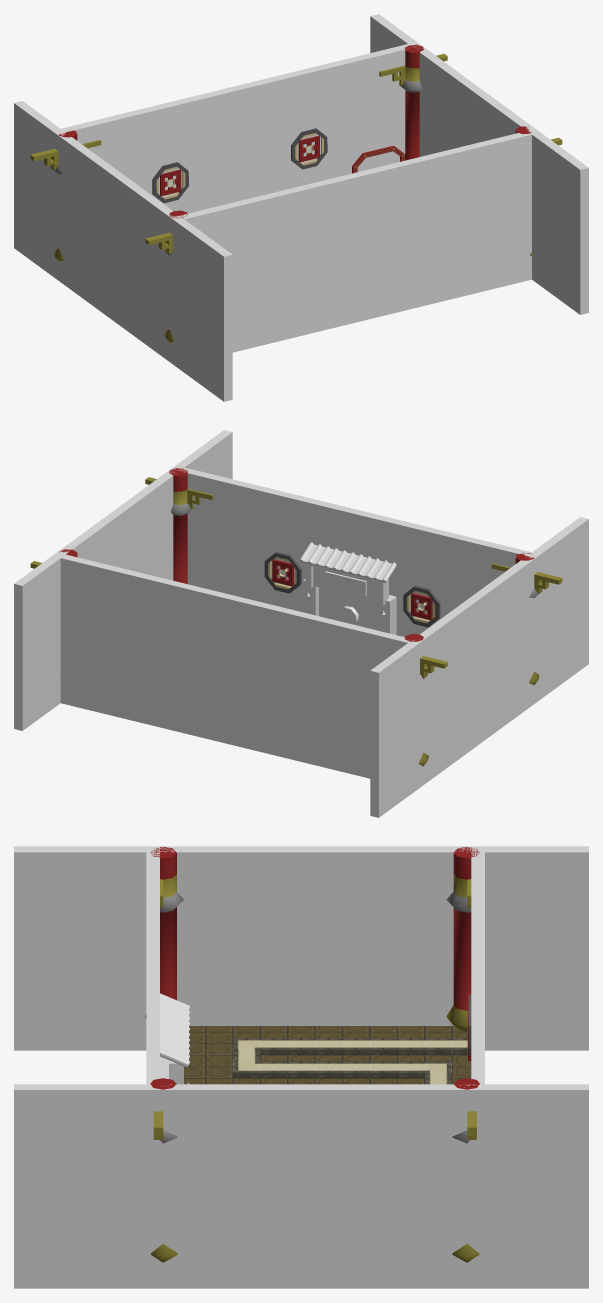
File: darkness_level2.FBX
3 views of the same model, one above another, from view 1: azimuth 30°, elevation 25°; view 2: azimuth 150°, elevation 25°; view 3: azimuth 270°, elevation 25° (orthographic). The views are drawn at different scales.
Visible parts, largest first — view 1: Box102, Box105, Box103, Box104, Object052, Torus008, Torus009, Object051, Object050; view 2: Box103, Box105, Box102, Box104, Object049, Box101, Box094, Torus007, Torus001, Box099, Object053, Object050 (+3 smaller); view 3: Box104, Box105, Object051, Box102, Box103, Object050, Box101, Object049, Object052.
Boxes of the visible parts, left/top/right/bottom form: Box102: left=171, top=133, right=531, bottom=352; Box105: left=14, top=101, right=232, bottom=401; Box103: left=53, top=42, right=420, bottom=213; Box104: left=370, top=14, right=588, bottom=314; Object052: left=379, top=44, right=447, bottom=160; Torus008: left=152, top=162, right=188, bottom=203; Torus009: left=291, top=128, right=327, bottom=169; Object051: left=30, top=130, right=101, bottom=261; Object050: left=145, top=210, right=187, bottom=342; Box103: left=53, top=552, right=420, bottom=778; Box105: left=370, top=517, right=588, bottom=817; Box102: left=171, top=465, right=539, bottom=636; Box104: left=14, top=430, right=232, bottom=730; Object049: left=145, top=468, right=213, bottom=583; Box101: left=299, top=542, right=396, bottom=583; Box094: left=303, top=579, right=396, bottom=634; Torus007: left=264, top=552, right=301, bottom=593; Torus001: left=403, top=585, right=440, bottom=627; Box099: left=305, top=563, right=388, bottom=605; Object053: left=319, top=587, right=349, bottom=621; Object050: left=491, top=553, right=562, bottom=684; Box104: left=14, top=1084, right=588, bottom=1288; Box105: left=14, top=846, right=588, bottom=1050; Object051: left=446, top=847, right=485, bottom=1031; Box102: left=146, top=846, right=159, bottom=1089; Box103: left=471, top=846, right=484, bottom=1089; Object050: left=145, top=847, right=183, bottom=1018; Box101: left=160, top=993, right=189, bottom=1067; Object049: left=150, top=1078, right=177, bottom=1262; Object052: left=452, top=1078, right=479, bottom=1262.
Bounding box in the file's own units: 239 × 80 × 210.
